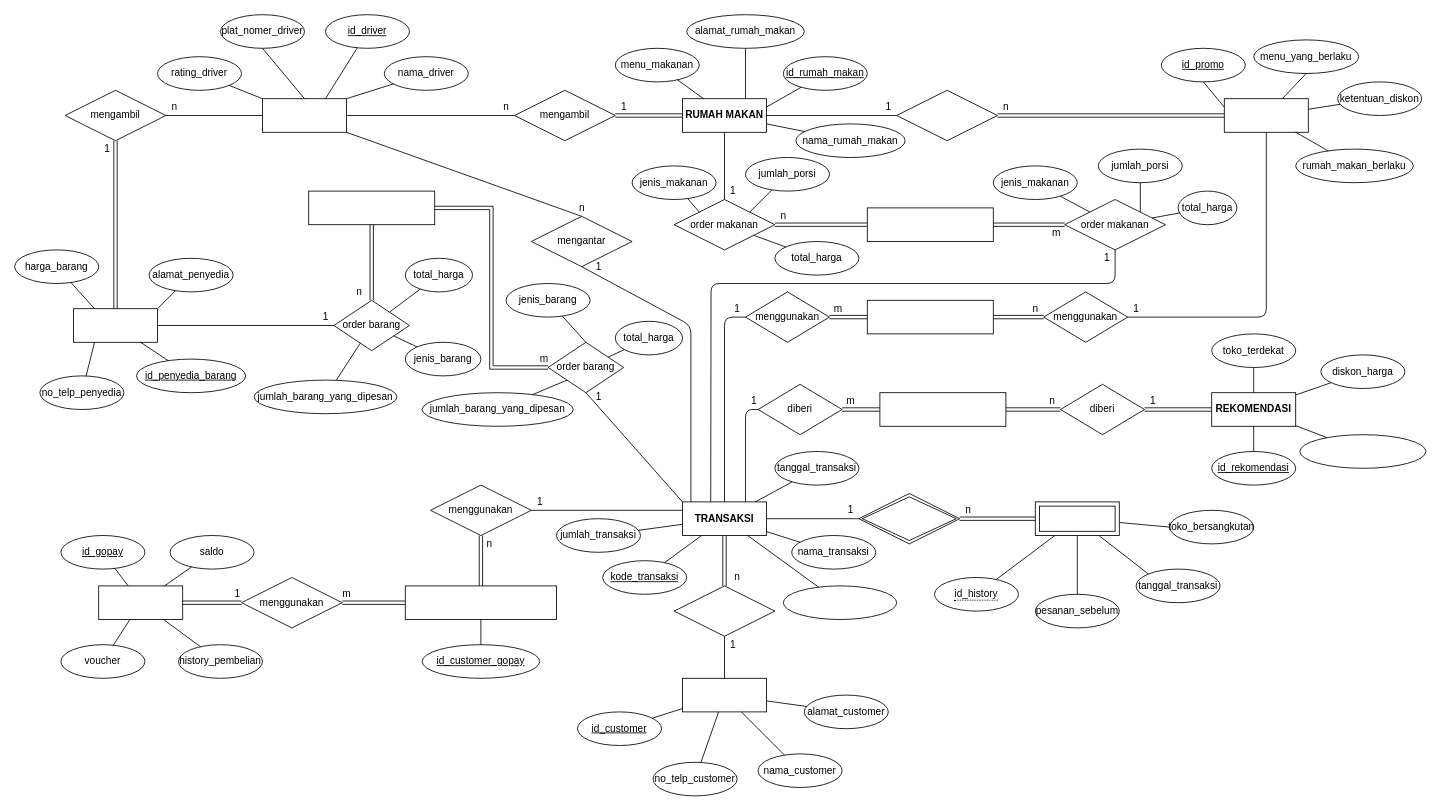
This 1441x811 diagram has some shape labels left out. The shapes that lost their labels are listed below. From the top down, each one's centre as x and y in pixels, then its label:
the point at 304,115: DRIVER
the point at 947,115: menyediakan
the point at 1265,115: PROMO MAKANAN
the point at 371,207: TRANSAKSI-PENYEDIA BARANG DETAIL
the point at 929,224: TRANSAKSI-RUMAH MAKAN DETAIL
the point at 115,325: PENYEDIA BARANG
the point at 929,316: TRANSAKSI-PROMO MAKANAN DETAIL
the point at 942,409: TRANSAKSI-REKOMENDASI DETAIL
the point at 1362,451: toko_sering_digunakan
the point at 909,518: memiliki
the point at 1076,518: HISTORY
the point at 140,602: GOPAY
the point at 480,602: TRANSAKSI-GOPAY DETAIL
the point at 724,610: melakukan
the point at 839,602: metode_pembayaran
the point at 724,694: CUSTOMER
